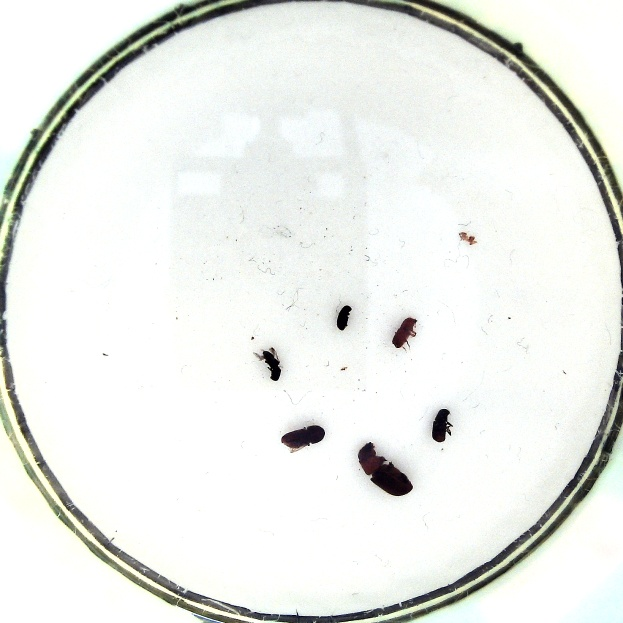acuminatus: (390, 317, 420, 353)
armandi: (430, 405, 456, 443)
coleoptera: (256, 346, 282, 384), (334, 305, 354, 334)
leconte: (359, 442, 415, 497)
linnaeus: (277, 425, 327, 454)
